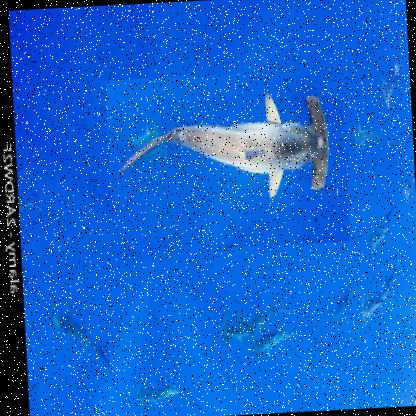hammerhead_Shark: (103, 67, 349, 253)
